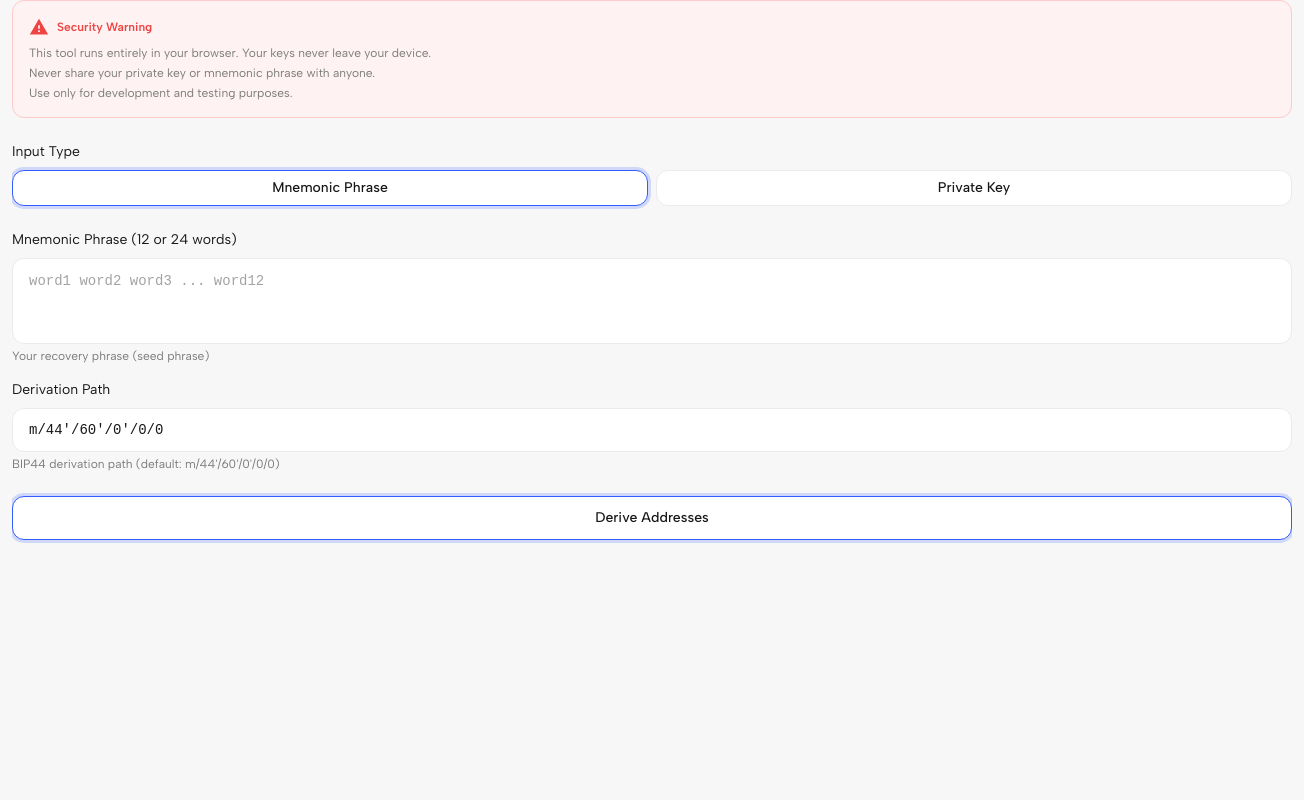
Test: MultiChainAddressDeriverTool › shows error for empty mnemonic
Click the button "Derive Addresses" at (652, 518), box x1=12 y1=496 x2=1292 y2=540
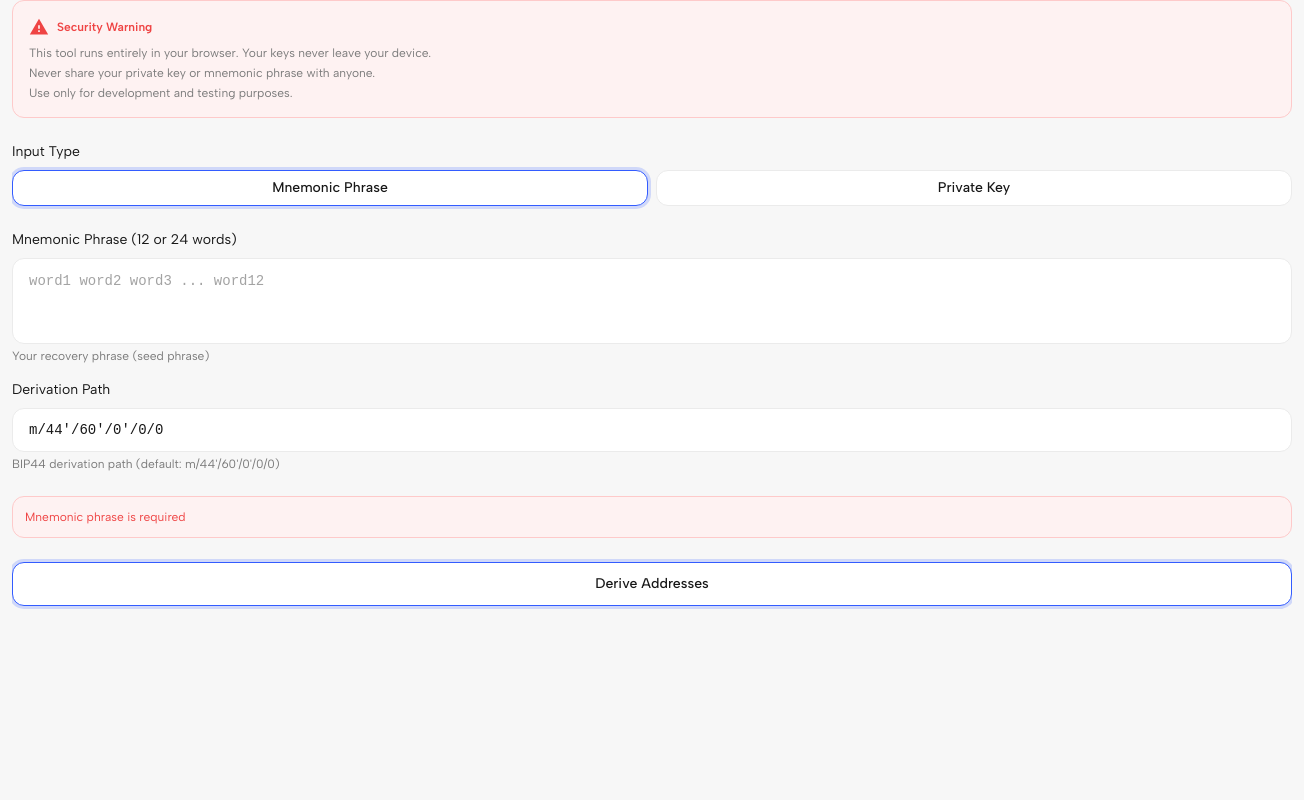
Now the text "Mnemonic phrase is required" is shown, box x1=25 y1=510 x2=186 y2=524
